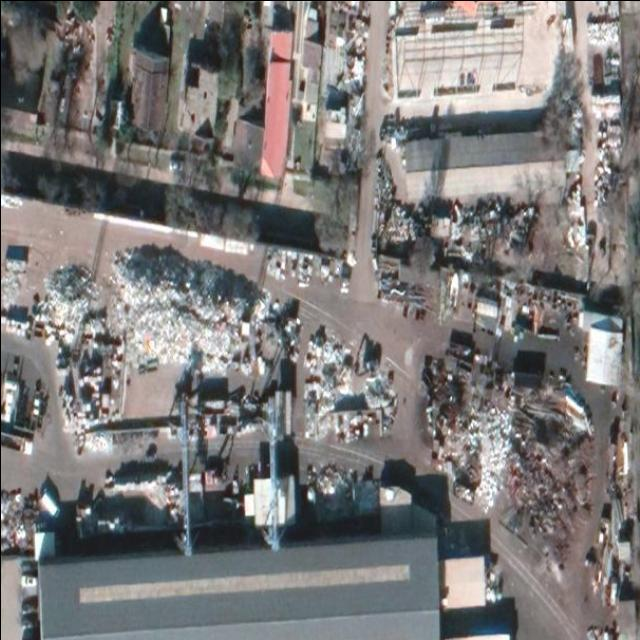dump_site: (106, 270, 245, 380), (489, 434, 584, 571), (117, 227, 258, 315), (462, 393, 511, 515), (448, 184, 533, 248), (303, 342, 340, 443), (31, 288, 87, 351), (41, 257, 92, 300), (370, 157, 392, 214), (362, 374, 391, 408), (0, 274, 22, 313)
